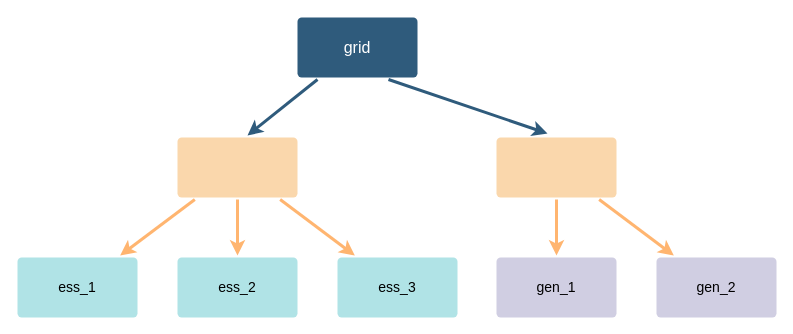
Some shapes in this 793 by 334 pixel diagram are drawn without their labels. Here are the shapes that lost their labels. From the top down, the centre of each, then its label:
At point 237,167: "feed_1".
At point 556,167: "feed_2".
